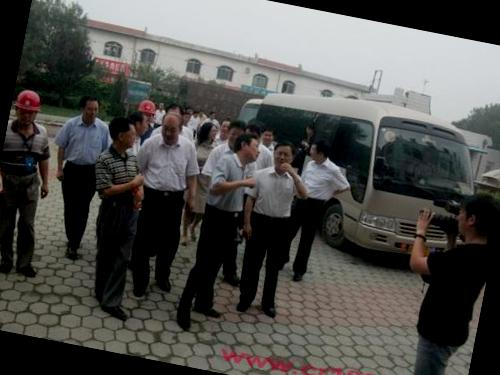no_helmet: (450, 189, 500, 254), (104, 112, 140, 153), (269, 135, 299, 174), (158, 109, 188, 148), (228, 130, 262, 162), (306, 137, 334, 169), (74, 93, 102, 124), (223, 118, 246, 151), (197, 118, 220, 148), (130, 111, 152, 136), (258, 125, 278, 148)
